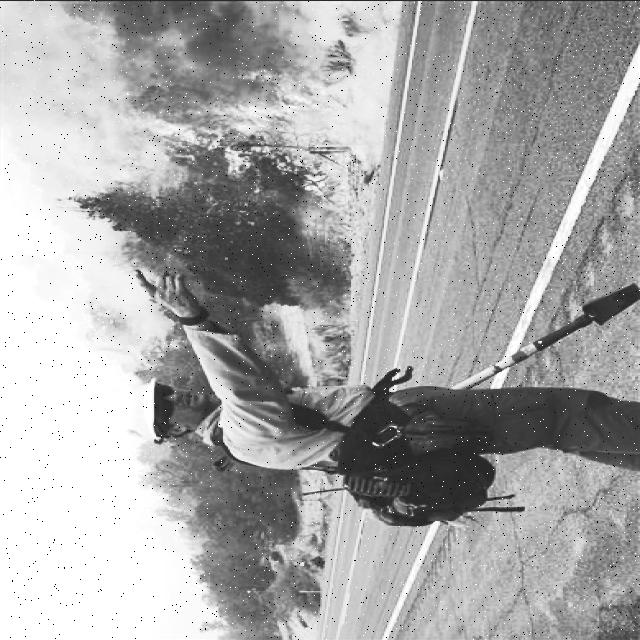api: (62, 67, 356, 257)
asap: (1, 5, 198, 215), (247, 1, 399, 192), (2, 198, 180, 357), (247, 299, 360, 365)
